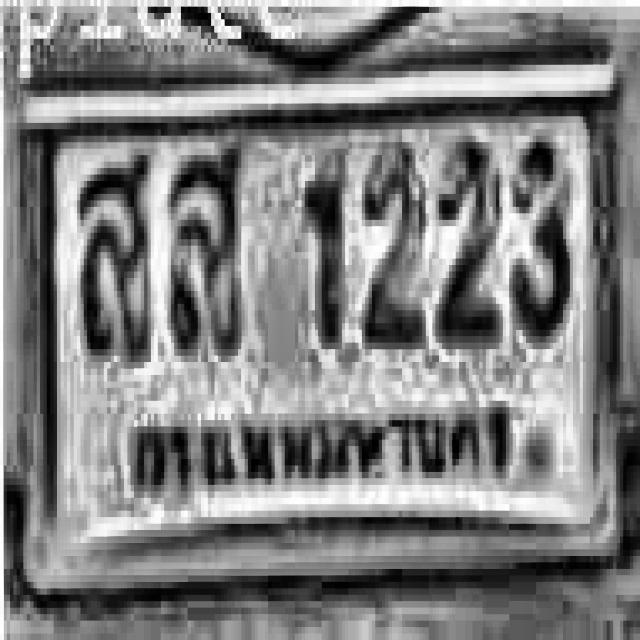license-plate: (21, 85, 619, 589)
